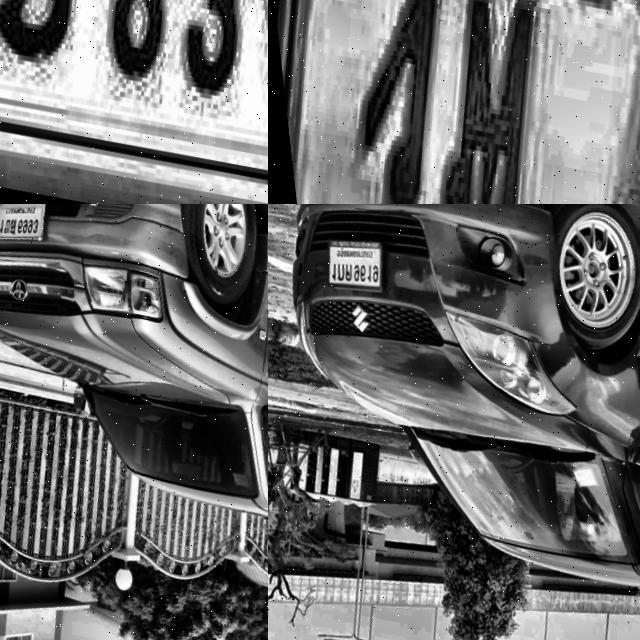license-plate: (268, 0, 640, 204), (0, 0, 268, 204), (317, 234, 388, 298), (0, 204, 53, 253)
